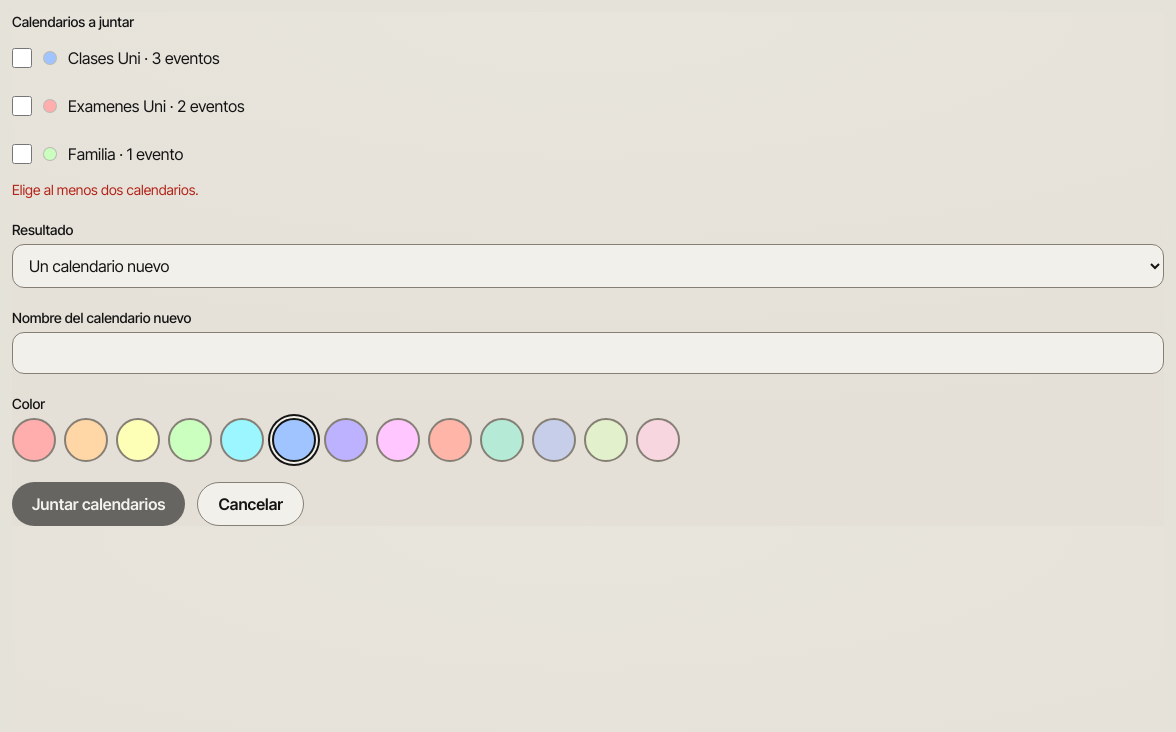
Test: MergeForm (RF-49..RF-52) › needs at least two calendars before it can continue
Check: the button "Juntar calendarios" is disabled, box [12, 482, 186, 526]
Check: the text "Elige al menos dos calendarios." is shown, box [12, 181, 199, 198]
Click the checkbox labelled "Clases Uni · 3 eventos".
click(22, 58)  # box [12, 48, 32, 68]
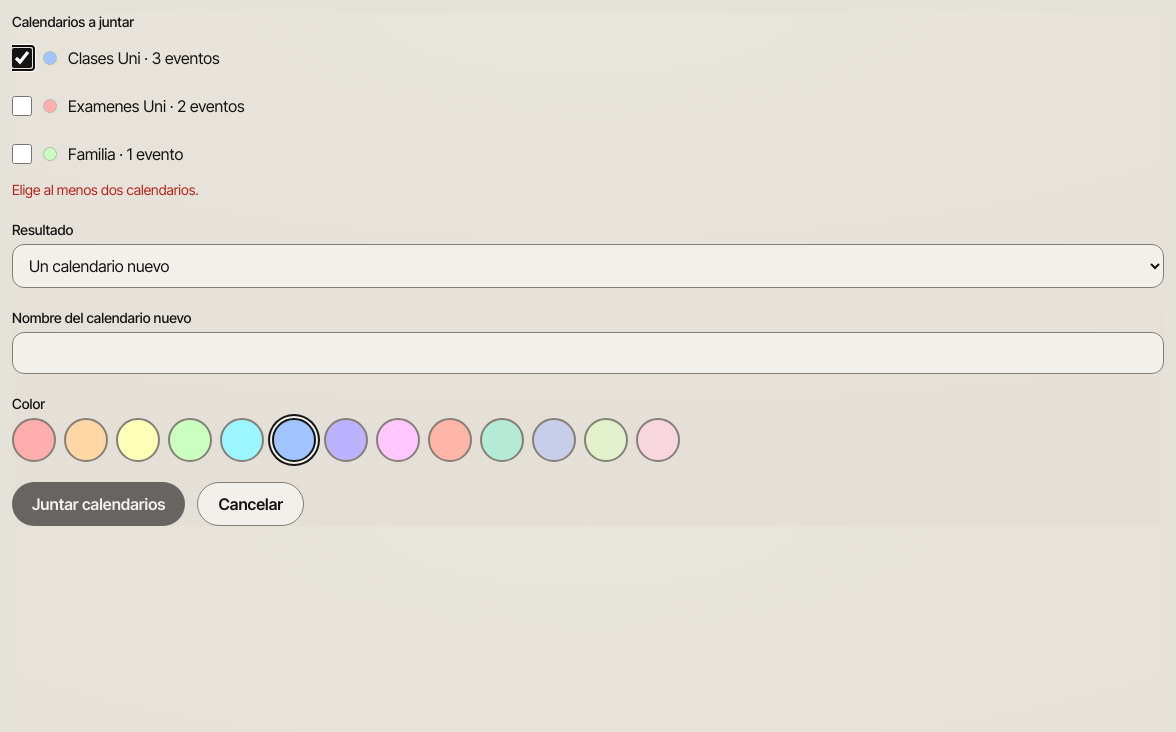
Check: the button "Juntar calendarios" is disabled, box [12, 482, 186, 526]
Click the checkbox labelled "Examenes Uni · 2 eventos".
click(22, 106)  # box [12, 96, 32, 116]
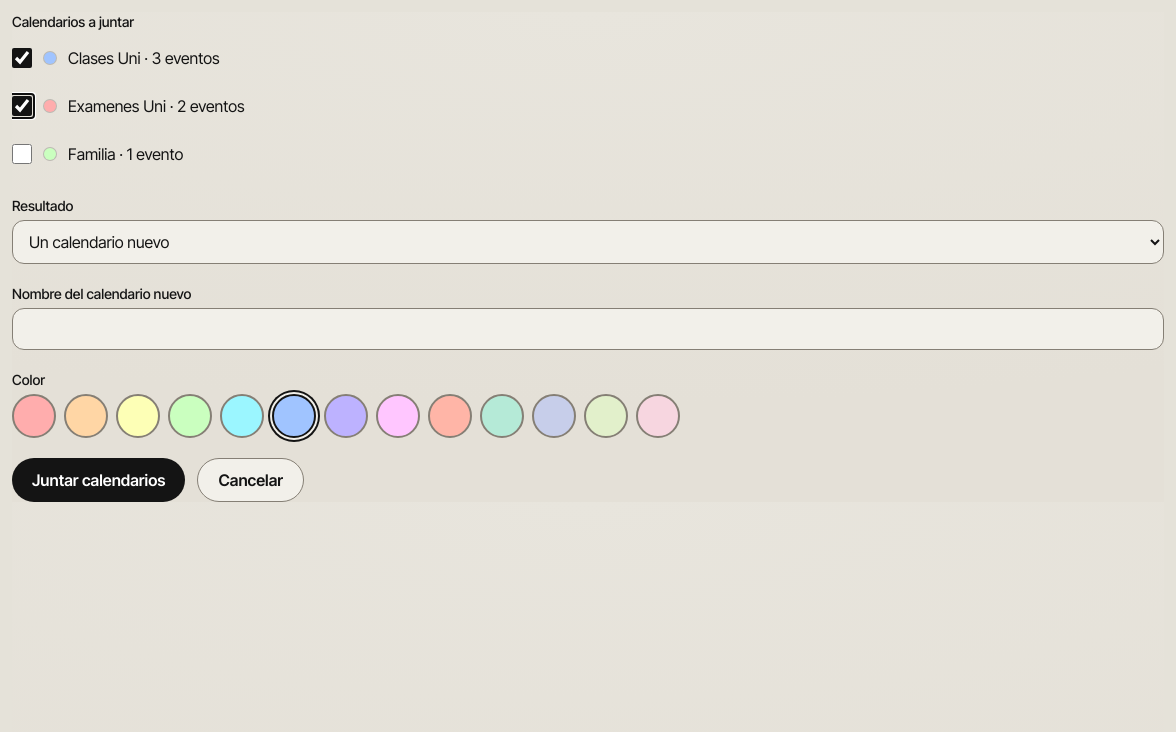
Check: the button "Juntar calendarios" is enabled, box [12, 458, 186, 502]
